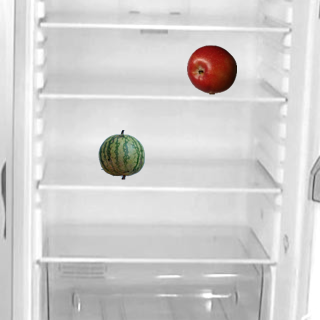Apple Braeburn: (186, 44, 236, 94)
Watermelon: (96, 129, 146, 179)
